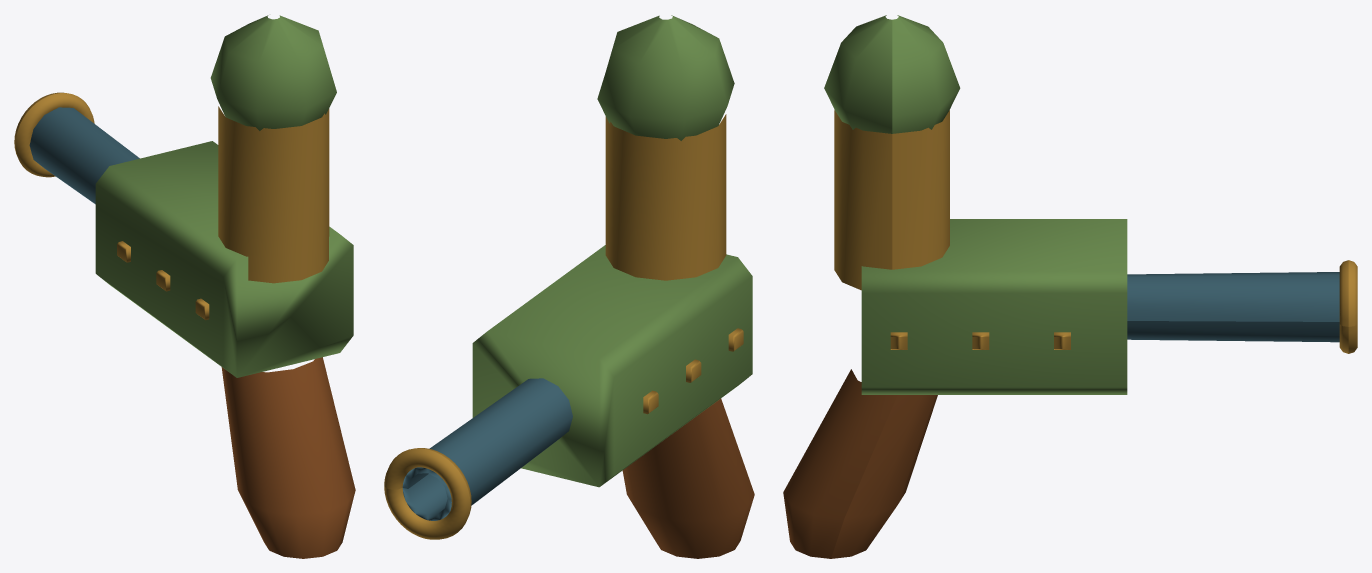
Rendered from weapon_poison.glb.
3 views of the same model, side by side, from view 1: azimuth 30°, elevation 25°; view 2: azimuth 150°, elevation 25°; view 3: azimuth 270°, elevation 25° (orthographic). The views are drawn at different scales.
Visible parts, largest first — view 1: ShapedReceiver, Grip, Tank, TankCharge, HollowBarrel0, BarrelCuff0; view 2: ShapedReceiver, Tank, Grip, TankCharge, HollowBarrel0, BarrelCuff0; view 3: ShapedReceiver, Grip, Tank, HollowBarrel0, TankCharge, BarrelCuff0.
Part boxes in pixels (left/top/right/bottom): ShapedReceiver: left=95, top=141, right=353, bottom=377; Grip: left=221, top=357, right=355, bottom=558; Tank: left=218, top=106, right=329, bottom=283; TankCharge: left=210, top=15, right=336, bottom=130; HollowBarrel0: left=29, top=107, right=139, bottom=204; BarrelCuff0: left=14, top=92, right=94, bottom=177; ShapedReceiver: left=472, top=245, right=752, bottom=487; Tank: left=605, top=114, right=726, bottom=280; Grip: left=622, top=398, right=754, bottom=558; TankCharge: left=597, top=15, right=734, bottom=140; HollowBarrel0: left=402, top=378, right=572, bottom=520; BarrelCuff0: left=384, top=448, right=471, bottom=539; ShapedReceiver: left=861, top=219, right=1127, bottom=394; Grip: left=783, top=369, right=937, bottom=558; Tank: left=834, top=110, right=949, bottom=290; HollowBarrel0: left=1127, top=272, right=1339, bottom=342; TankCharge: left=824, top=15, right=960, bottom=133; BarrelCuff0: left=1339, top=260, right=1357, bottom=353.
Bounding box in the file's own units: 0.25 × 0.85 × 0.8433.
